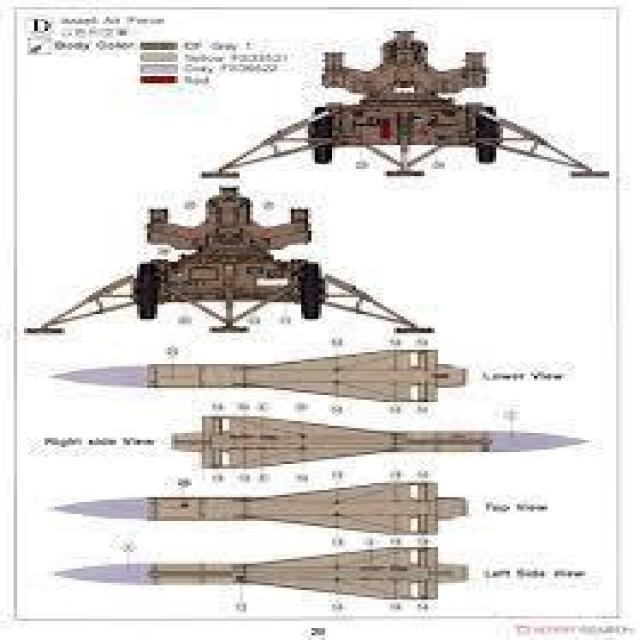MIL_MBT: (120, 194, 332, 330), (315, 38, 507, 188)
